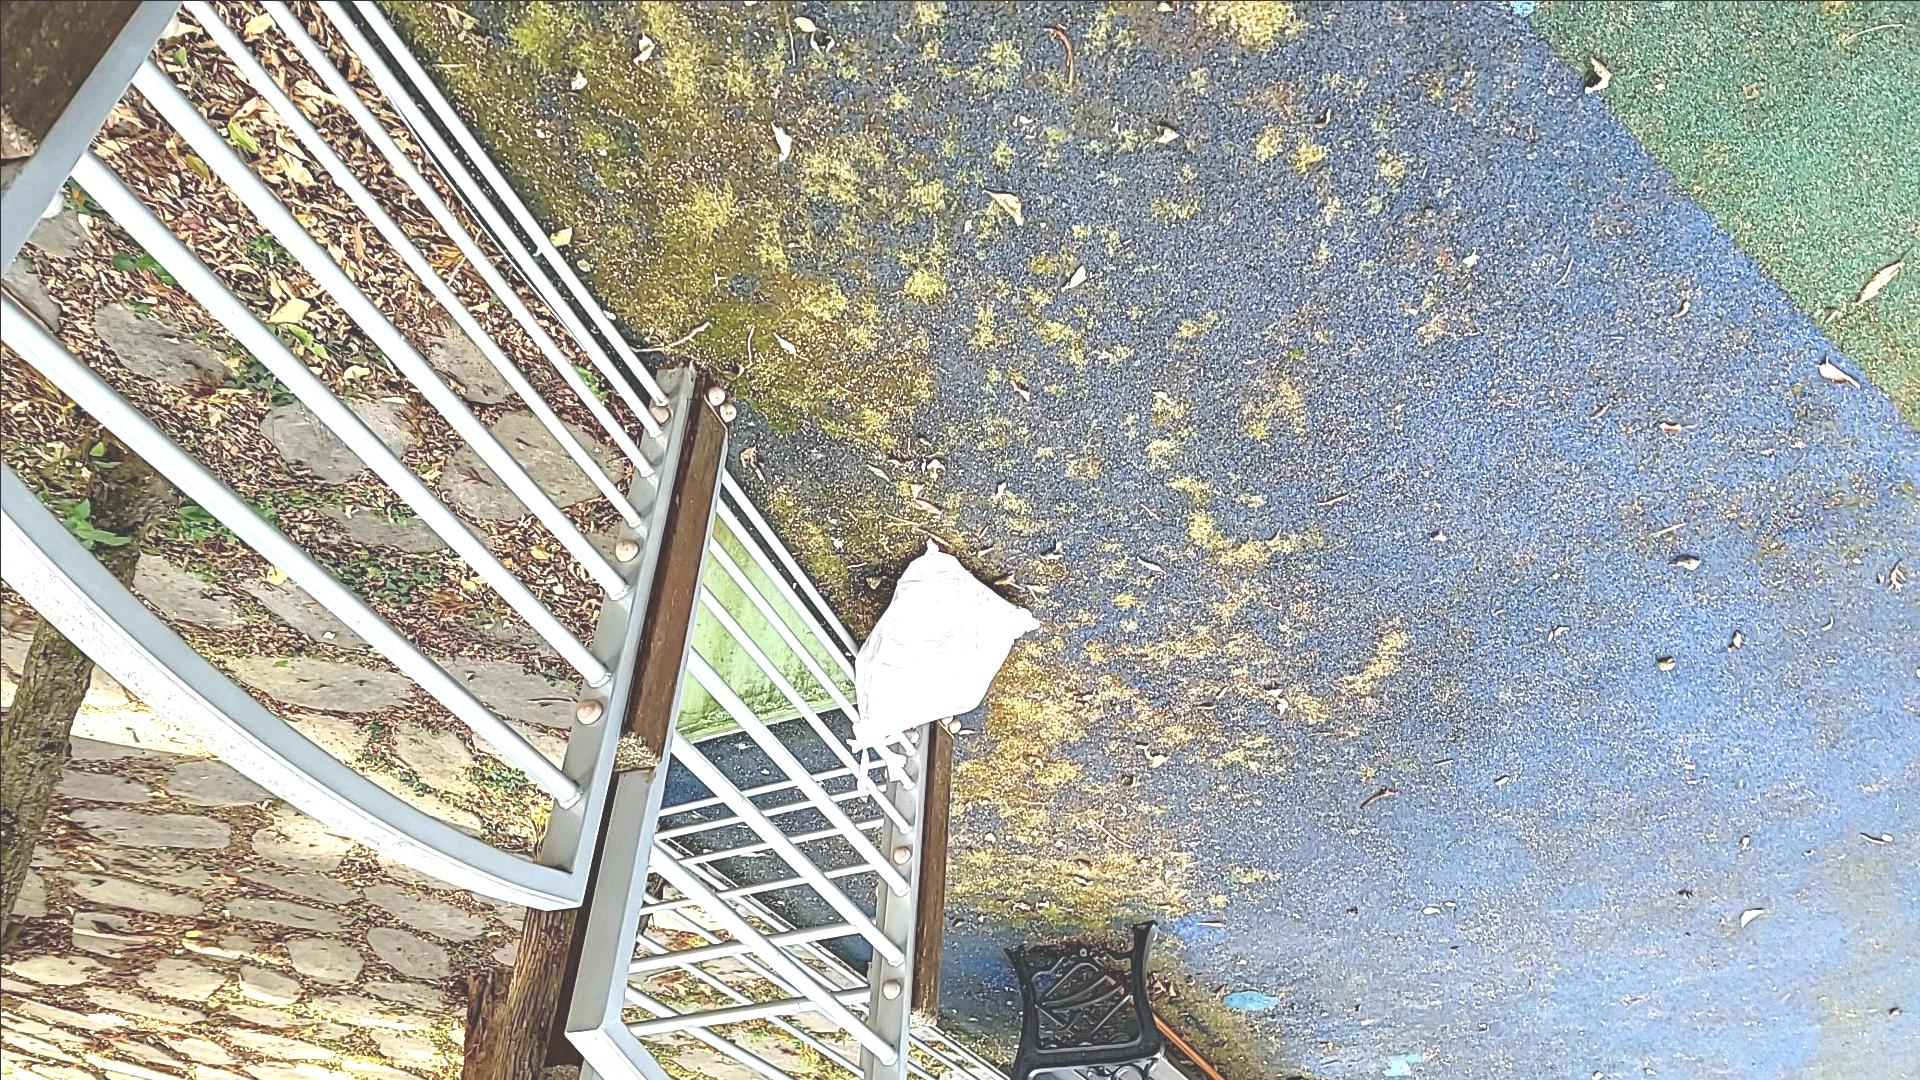white_bag: (831, 534, 1060, 808)
